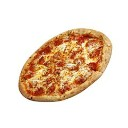pepperonipizza: (20, 30, 113, 101)
